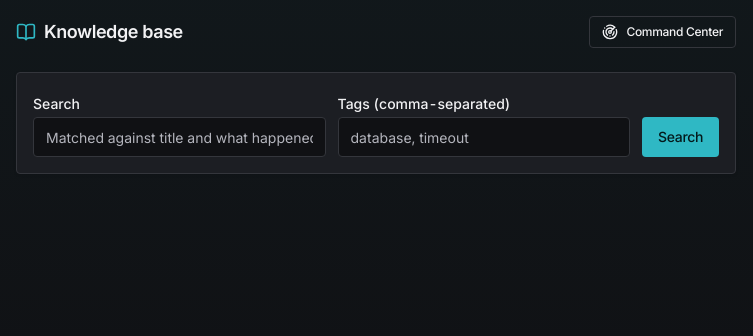
Test: KnowledgeBasePage (ADR-0011 — Phase 5 Knowledge Base search) › searches with query and tags and renders matching lessons
Type "payments" into the field labelled "Search" at [179, 137], box [33, 117, 326, 157]
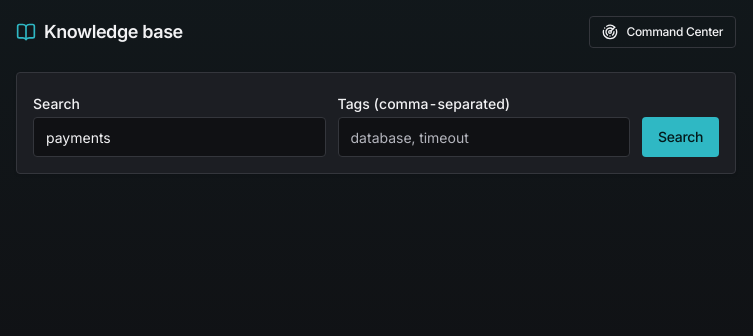
Type "deploy" into the field labelled "Tags (comma-separated)" at [484, 137], box [338, 117, 630, 157]
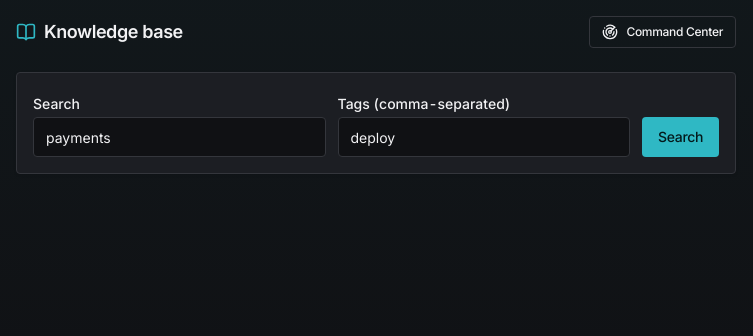
Click the button "Search" at [681, 137], box [642, 117, 719, 157]
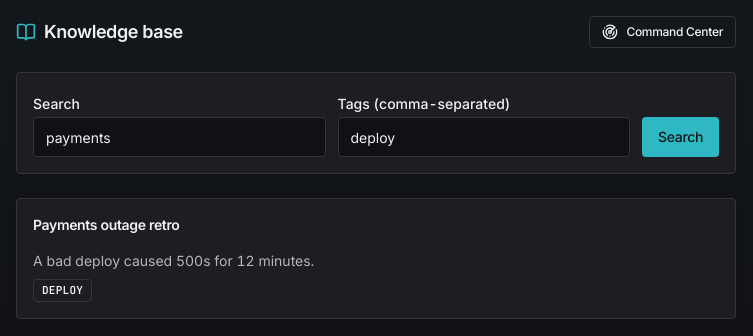
Now the heading "Payments outage retro" is shown, box [33, 216, 180, 233]
